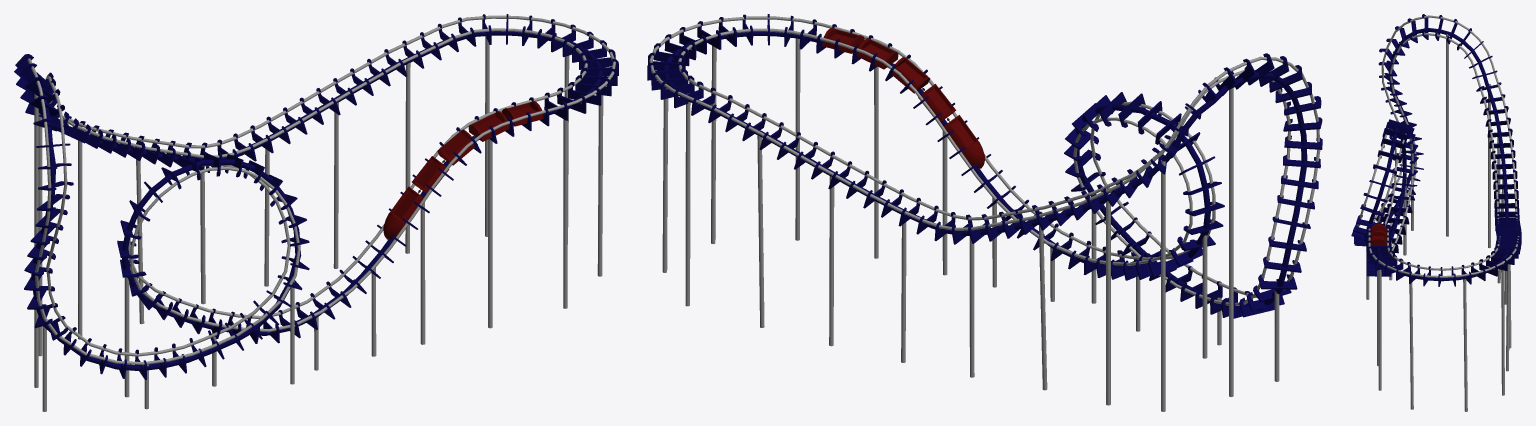
File: RollerCoaster.fbx
3 views of the same model, side by side, from view 1: azimuth 30°, elevation 25°; view 2: azimuth 150°, elevation 25°; view 3: azimuth 270°, elevation 25° (orthographic). The views are drawn at different scales.
Parts seen in each view (by area): view 1: Line011, Shape027, real, RollerCoaster; view 2: Line011, Shape027, real, RollerCoaster; view 3: Line011, Shape027, real, RollerCoaster, Plane096.
Part boxes in pixels (box(x1,y1,x2,y2)): Line011: box(34, 36, 603, 411); Shape027: box(27, 15, 615, 365); real: box(31, 31, 603, 371); RollerCoaster: box(383, 101, 543, 239); Line011: box(662, 38, 1279, 411); Shape027: box(649, 16, 1320, 305); real: box(662, 31, 1307, 311); RollerCoaster: box(822, 27, 984, 168); Line011: box(1366, 34, 1511, 411); Shape027: box(1357, 15, 1519, 277); real: box(1364, 27, 1510, 281); RollerCoaster: box(1370, 224, 1386, 245); Plane096: box(1382, 128, 1408, 143).
Size of what is drawn, in the model's own units: 1513 by 784 by 554.
